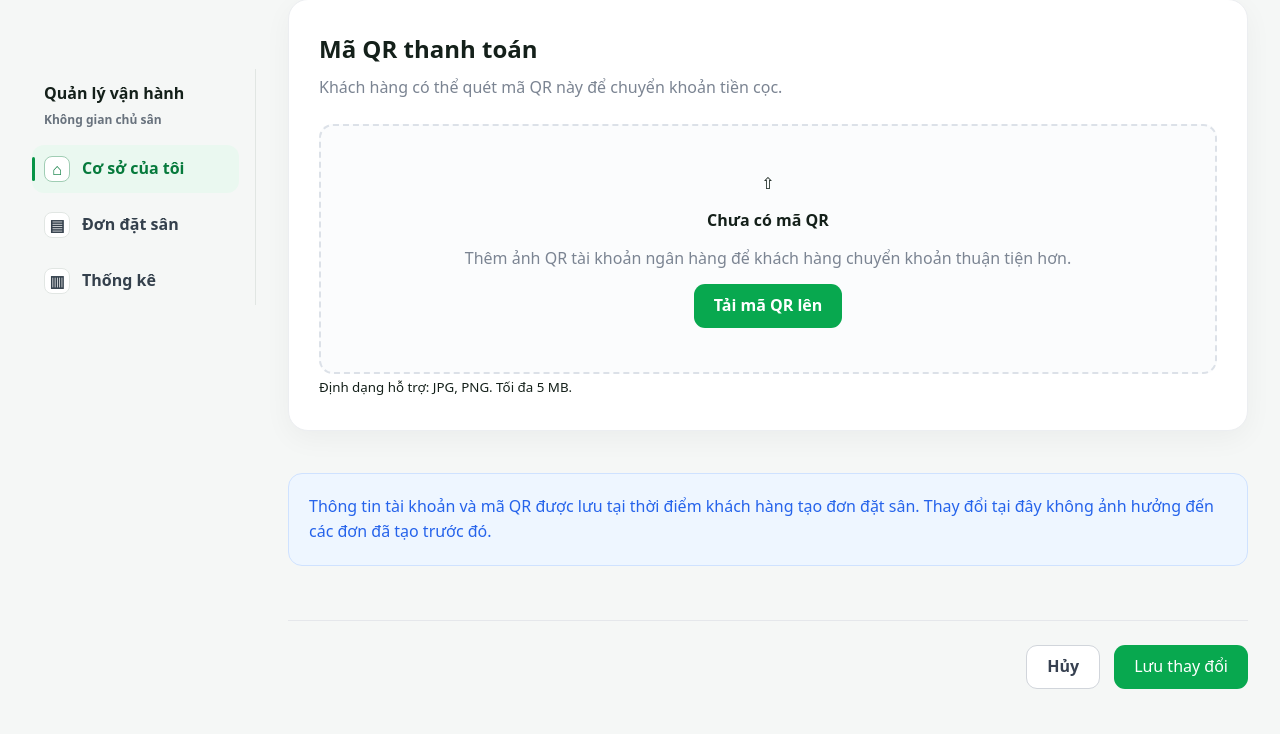
Test case: renders empty account/QR state and validates text without mutation
(page scrolled)
Expected: the text "Chưa có mã QR" is shown, [707,208,829,234]
Click the button "Lưu thay đổi".
click(1181, 667)  # box [1114,645,1248,689]
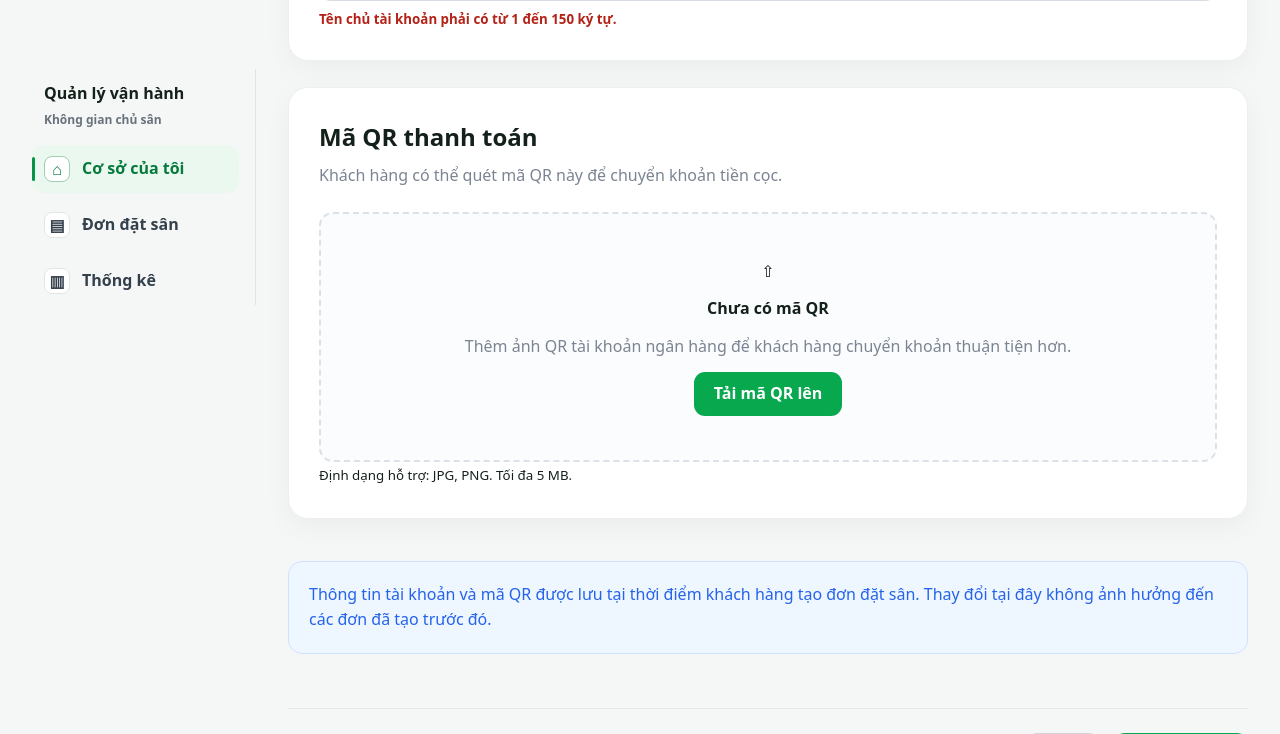
Result: the number of messages is 3
